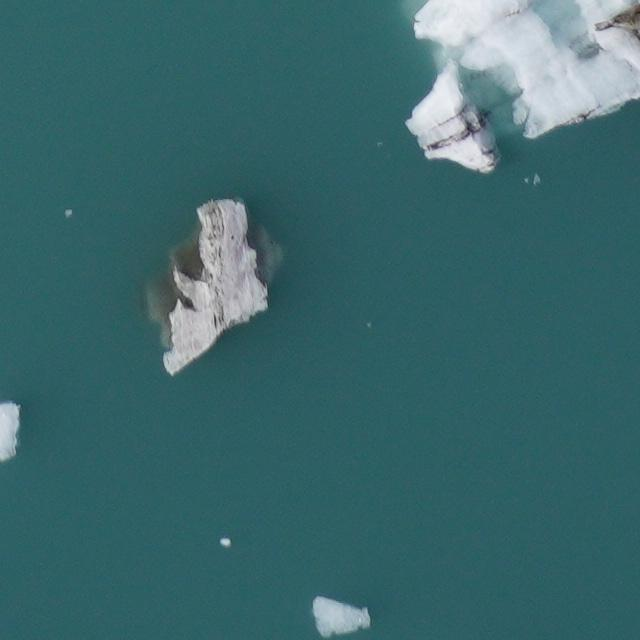seal: (593, 0, 639, 35)
